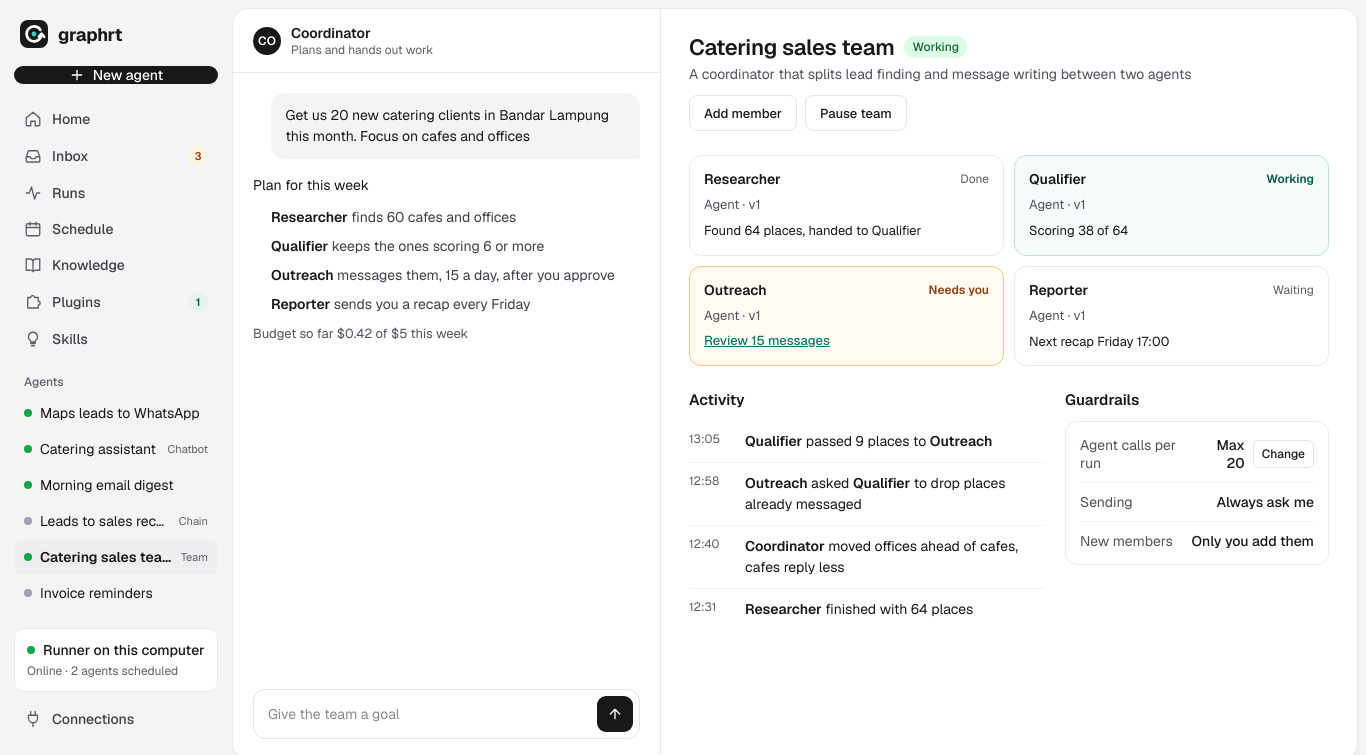
Test: TeamPage › pauses and resumes the team through the team agent status
The image size is (1366, 755).
Click the button "Pause team" at (856, 113), box [805,95,907,131]
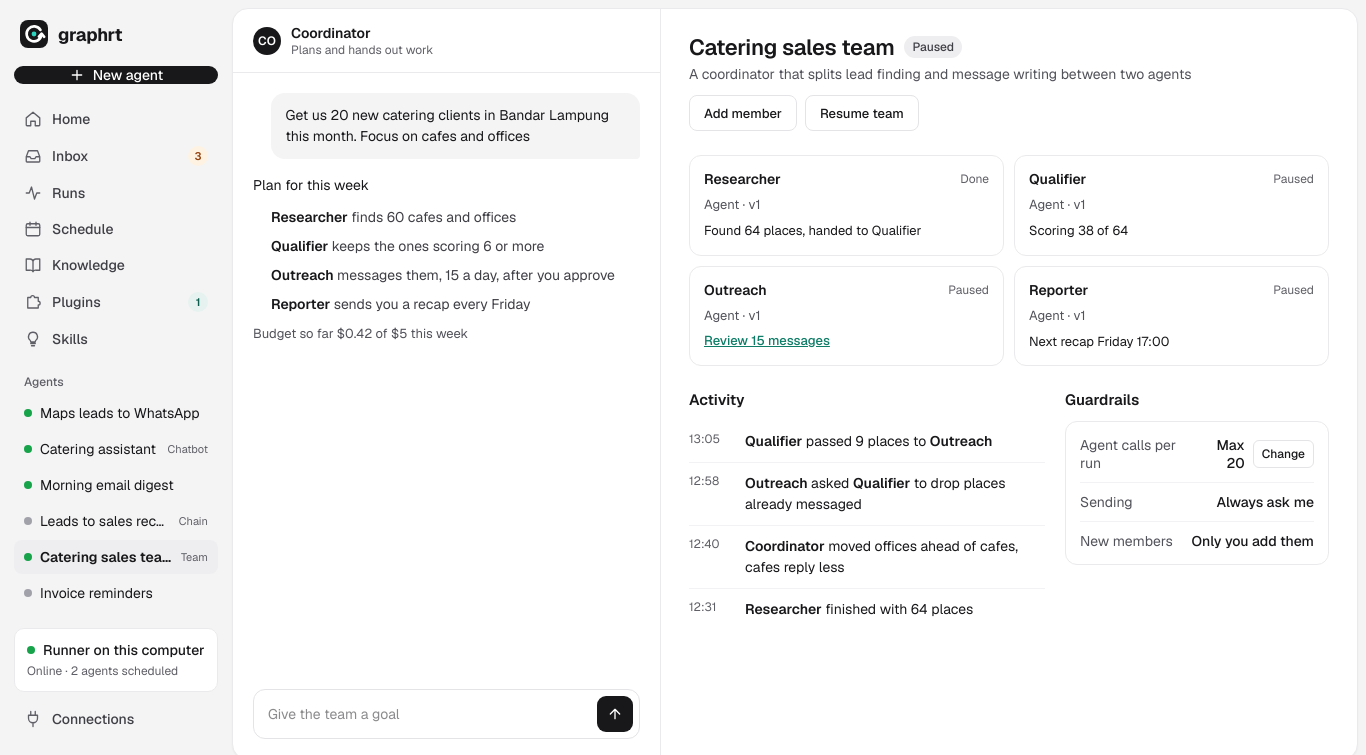
Check: the button "Resume team" is shown
Click the button "Resume team" at (862, 113), box [805,95,919,131]
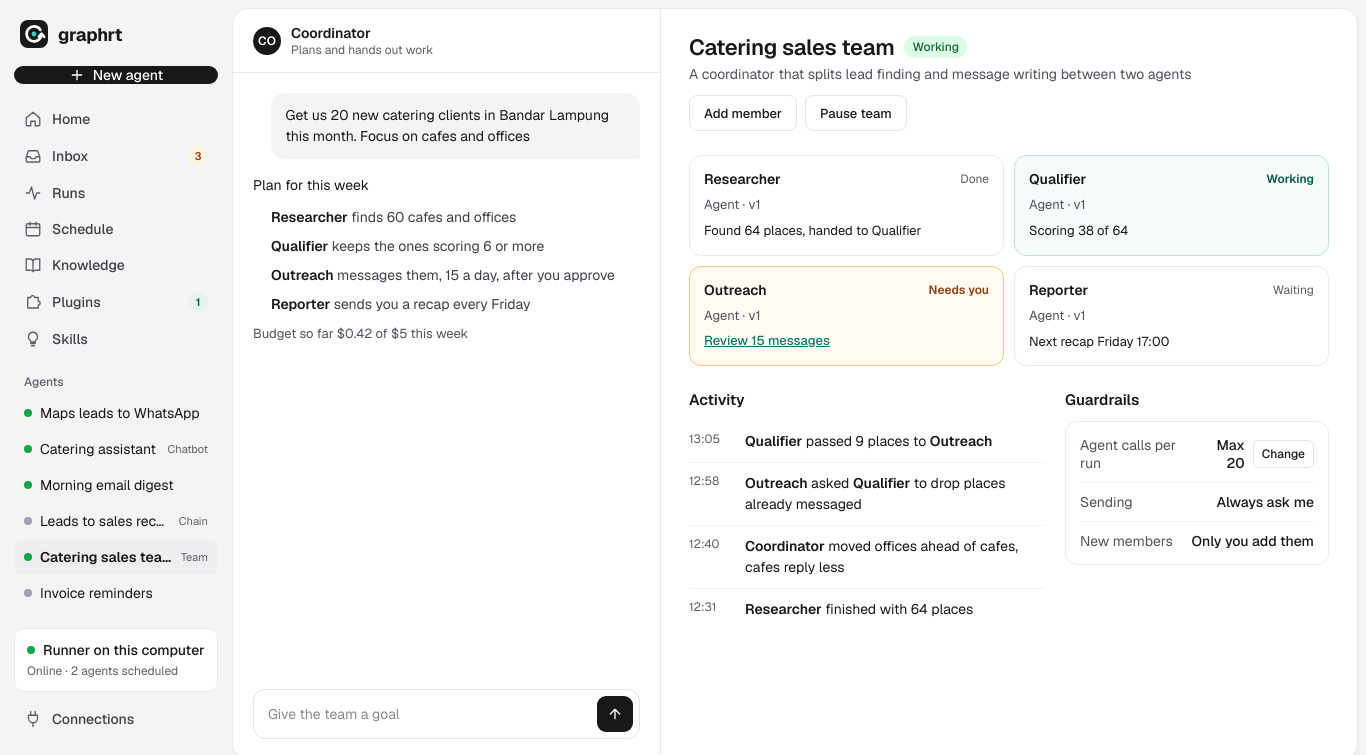
Check: the button "Pause team" is shown, box [805,95,907,131]
